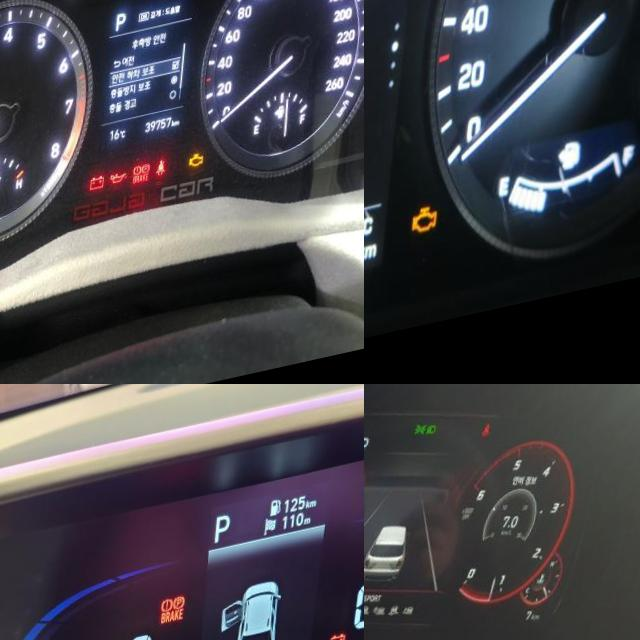LaneCenteringOff: (70, 0, 87, 11)
Low beam: (427, 440, 439, 453)
SideLamp: (415, 437, 431, 453)
